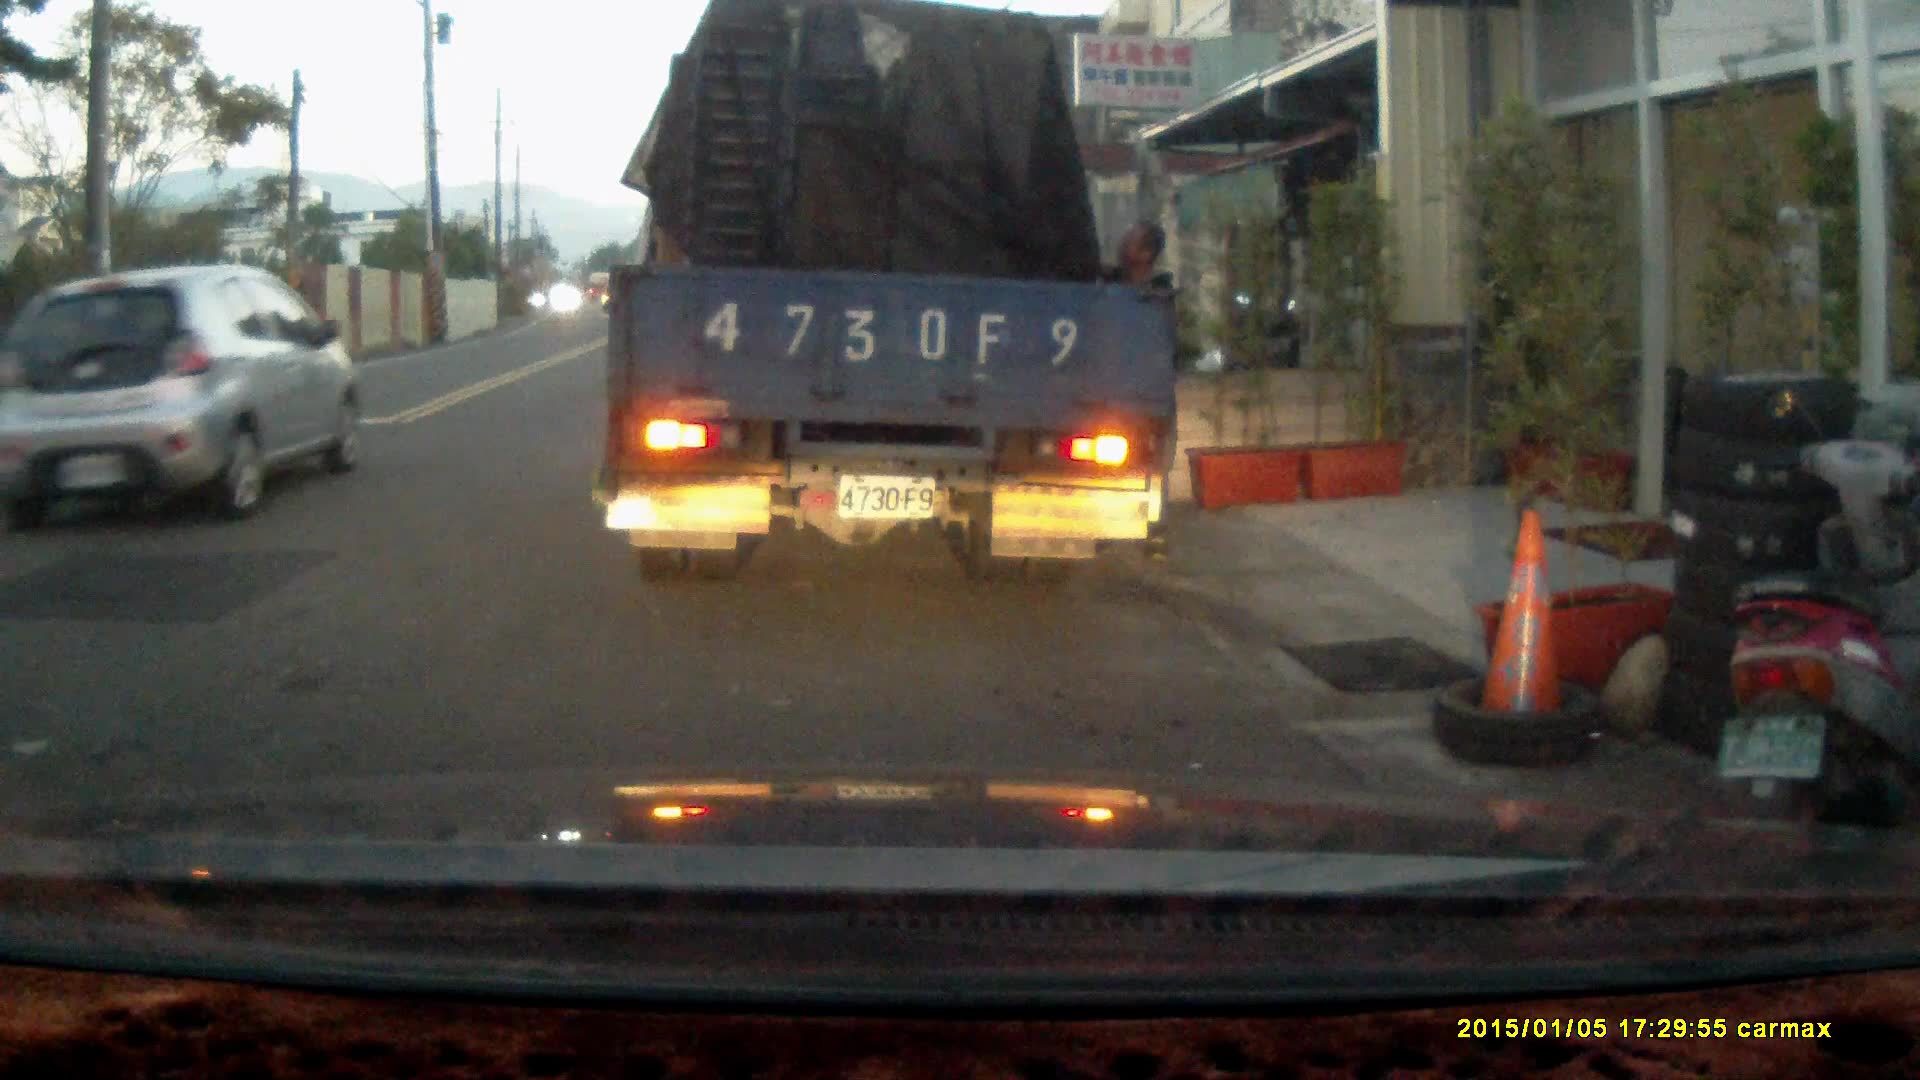pedestrian: (1084, 218, 1185, 567)
vehicle: (602, 23, 1185, 572), (0, 265, 358, 527)
